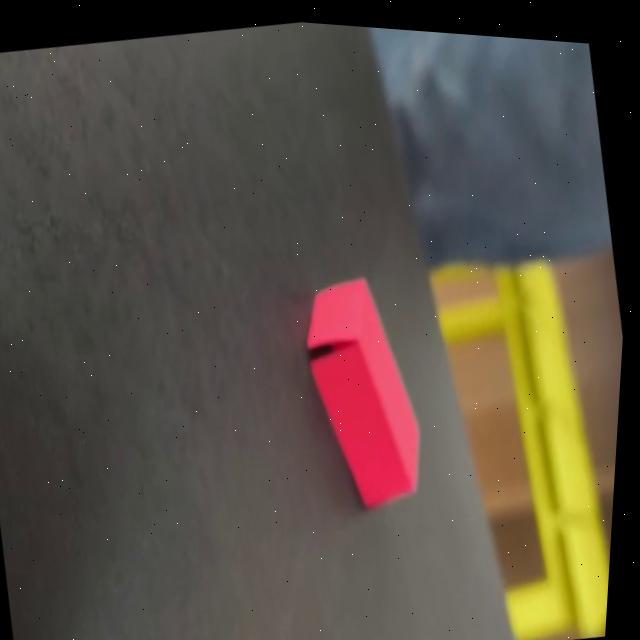red block: (285, 261, 443, 519)
